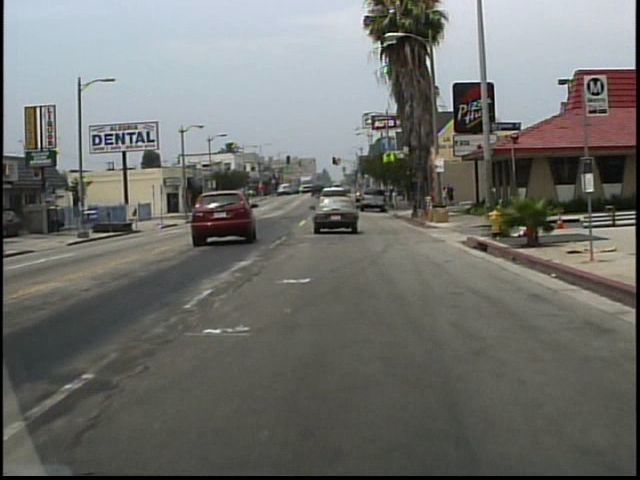person: (447, 183, 455, 208), (442, 185, 449, 209)
